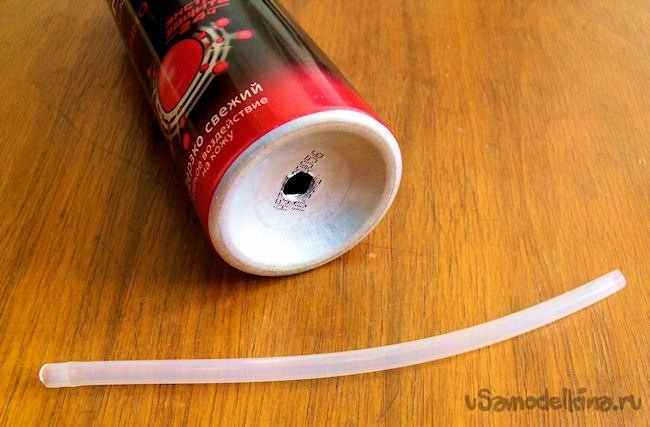Aerosol_cans: (101, 1, 407, 283)
